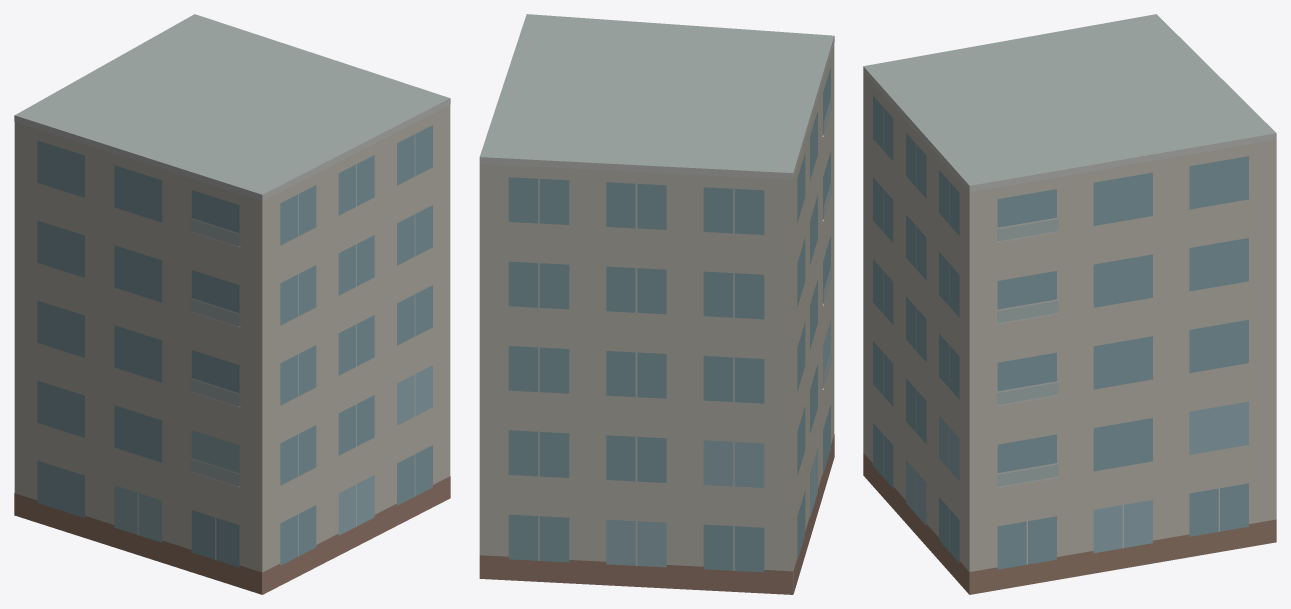
File: survey-upis-32859636.glb
3 renders of one model, left to right at view 1: azimuth 30°, elevation 25°; view 2: azimuth 150°, elevation 25°; view 3: azimuth 270°, elevation 25°, orthographic. The views are drawn at different scales.
Visible parts, largest first — view 1: survey-upis-32859636.tmp; view 2: survey-upis-32859636.tmp; view 3: survey-upis-32859636.tmp.
Boxes of the visible parts, x1,y1,x2,y2 form: survey-upis-32859636.tmp: [14, 14, 450, 594]; survey-upis-32859636.tmp: [479, 14, 834, 594]; survey-upis-32859636.tmp: [863, 14, 1276, 594].
Bounding box in the file's own units: 13.75 × 15.25 × 13.98.
